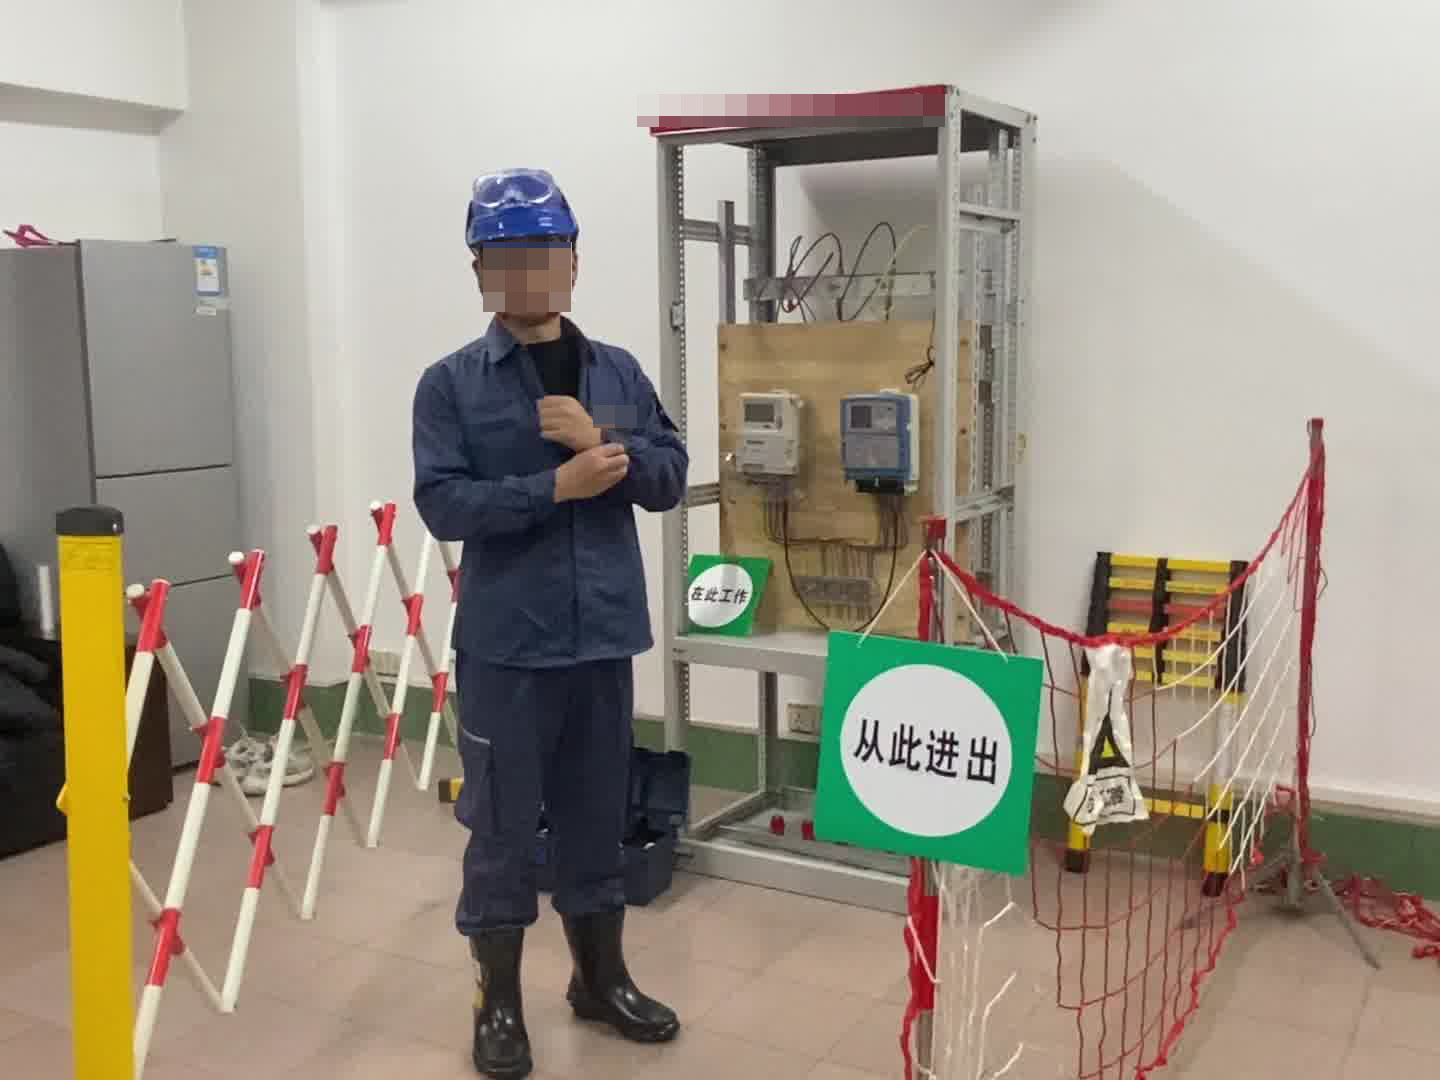downsuit: (447, 650, 649, 949)
halt: (460, 165, 588, 332)
hand: (539, 392, 617, 449), (538, 453, 624, 503)
intosign: (810, 632, 1045, 848)
person: (405, 161, 701, 1078)
shoe: (476, 926, 676, 1070)
upsuit: (407, 319, 690, 664)
worksign: (688, 553, 763, 636)
